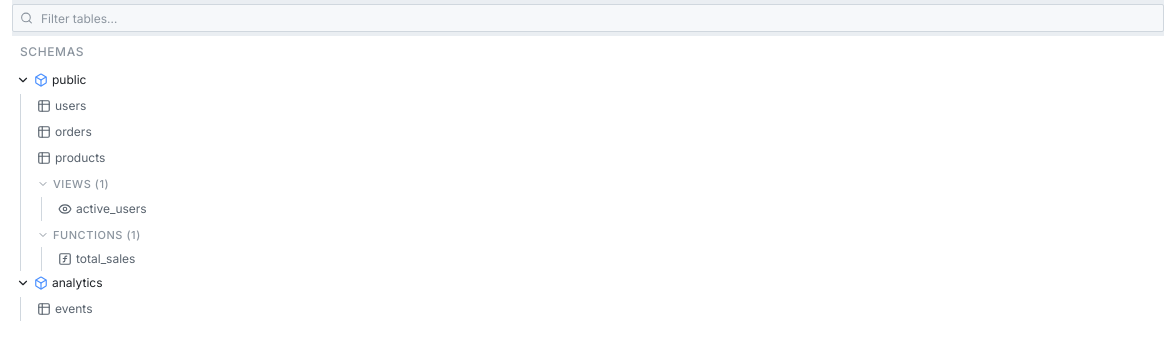
Test: SchemaTree filter › narrows the list to matching tables and hides non-matching schema groups
In the field labelled "Filter tables": [588, 18] box [12,4,1164,32], type "ord"
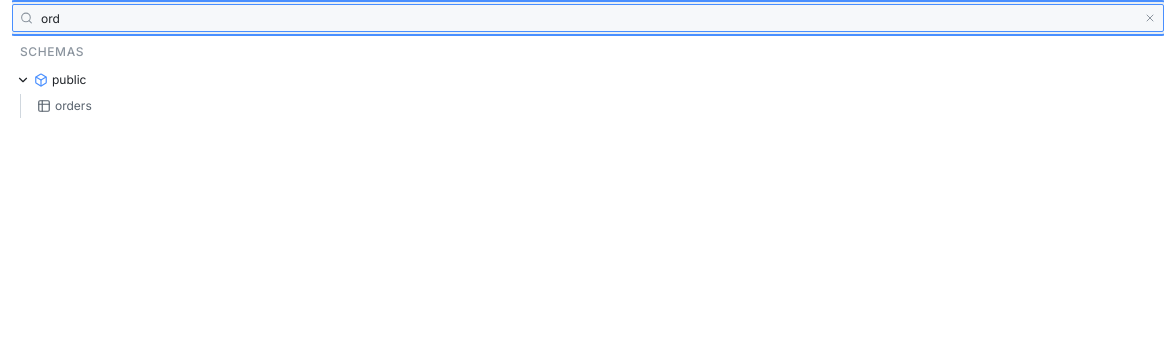
Check: the list item "users" is gone
Check: the list item "products" is gone
Check: the list item "events" is gone
